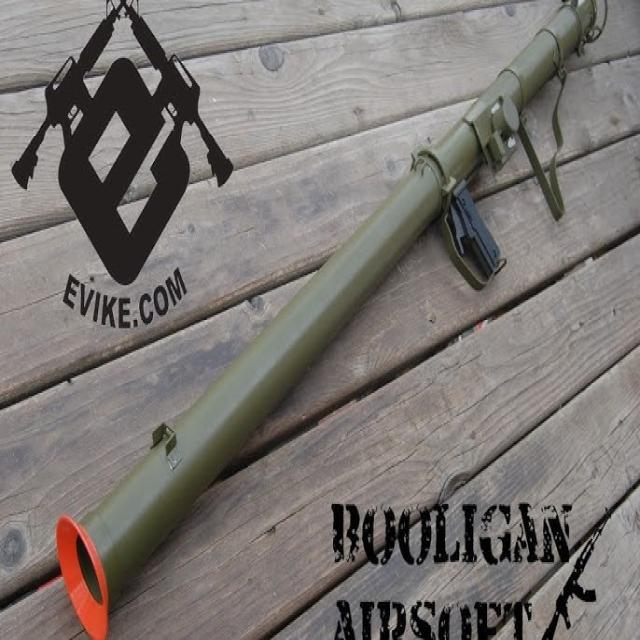bazooka: (49, 1, 616, 635)
